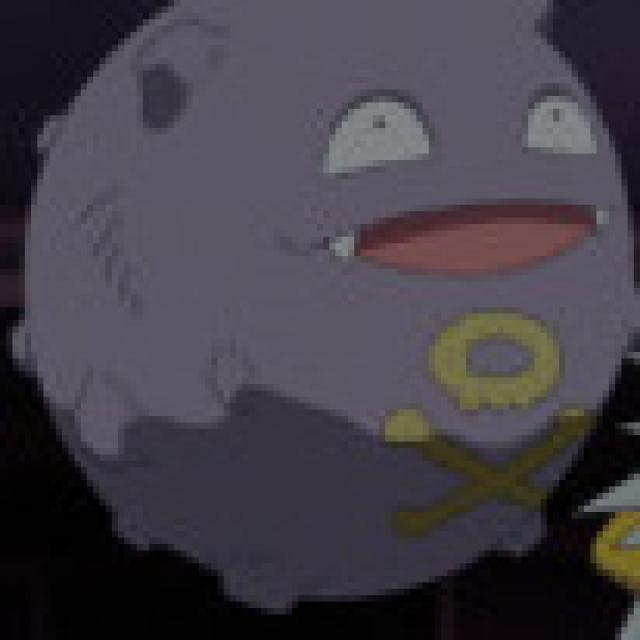Koffing: (10, 0, 639, 620)
